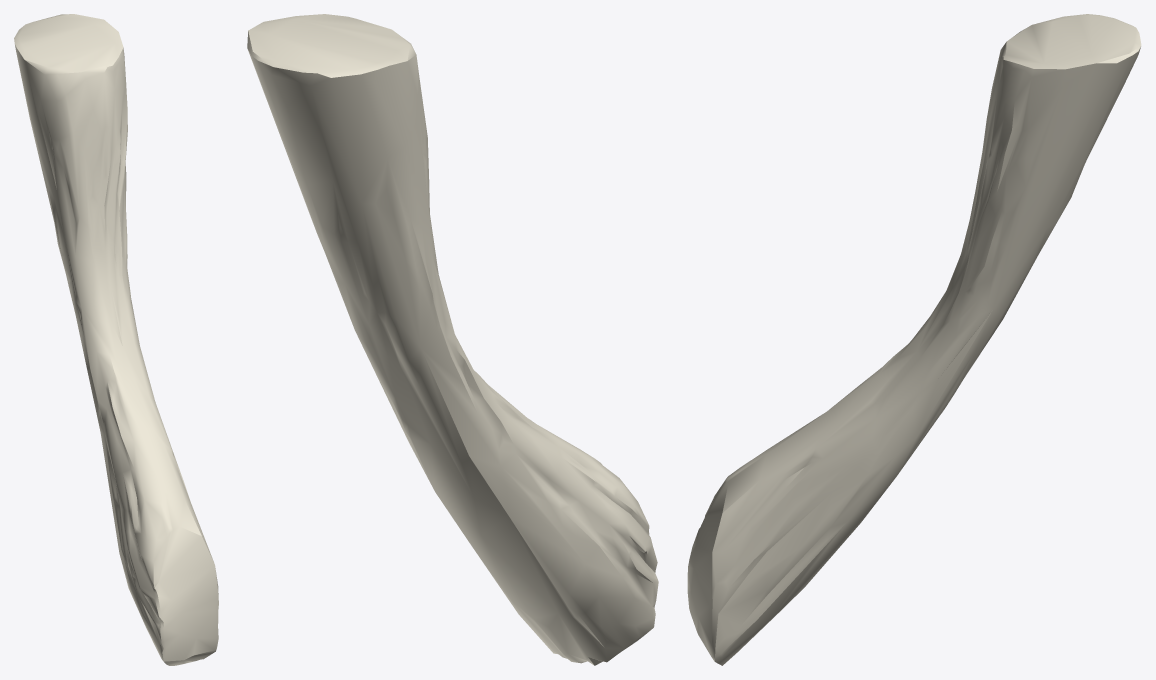
File: fma57086_fj7248.glb
3 views of the same model, side by side, from view 1: azimuth 30°, elevation 25°; view 2: azimuth 150°, elevation 25°; view 3: azimuth 270°, elevation 25° (orthographic). The views are drawn at different scales.
Parts seen in each view (by area): view 1: FMA57086_FJ7248; view 2: FMA57086_FJ7248; view 3: FMA57086_FJ7248.
Part boxes in pixels (x1,y1,x2,y2): FMA57086_FJ7248: (14, 14, 218, 665); FMA57086_FJ7248: (247, 14, 658, 665); FMA57086_FJ7248: (687, 14, 1141, 665).
Size of the model in its own units: 0.00655 by 0.0275 by 0.0178.
